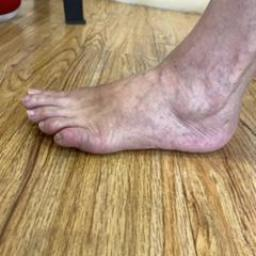Lateral View -Left Foot-: (12, 30, 252, 174)
